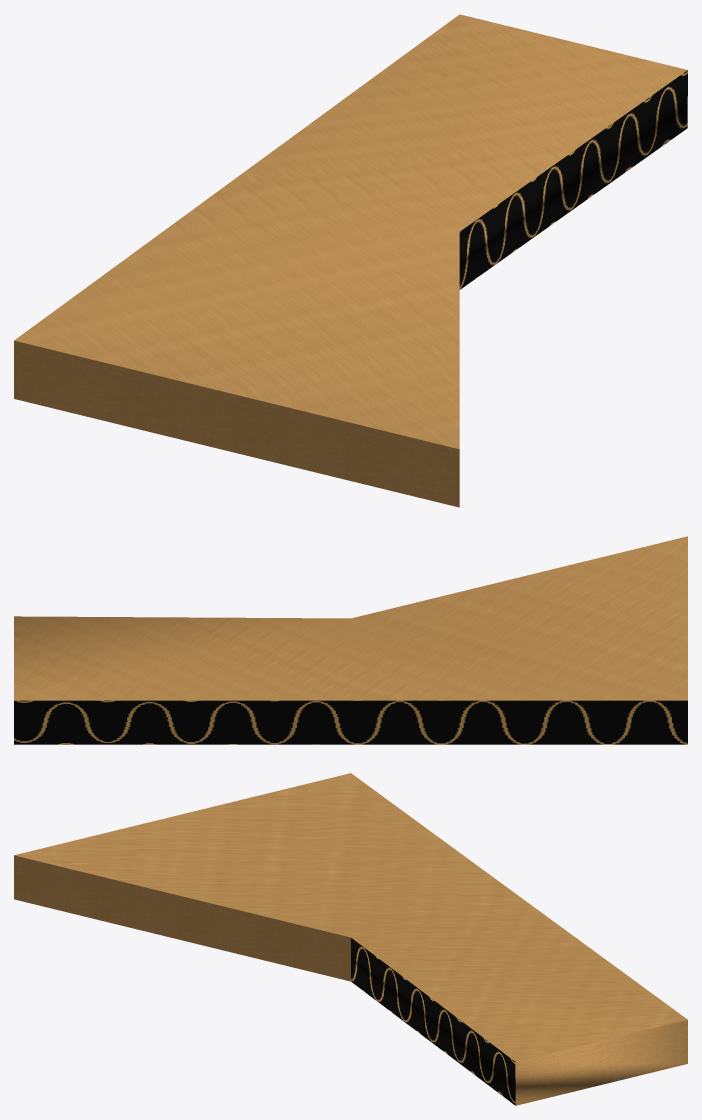
Rendered from cardboard1.obj.
The picture shows the model from 3 angles, top to bottom: view 1: azimuth 30°, elevation 25°; view 2: azimuth 150°, elevation 25°; view 3: azimuth 270°, elevation 25°; orthographic projection. The views are drawn at different scales.
Parts seen in each view (by area): view 1: pCylinder1; view 2: pCylinder1; view 3: pCylinder1.
Part boxes in pixels (left/top/right/bottom): pCylinder1: left=14, top=14, right=687, bottom=507; pCylinder1: left=14, top=536, right=687, bottom=744; pCylinder1: left=14, top=773, right=687, bottom=1105.
Size of the model in its own units: 1.76 by 0.125 by 1.73.
2 materials, 2 textured.
